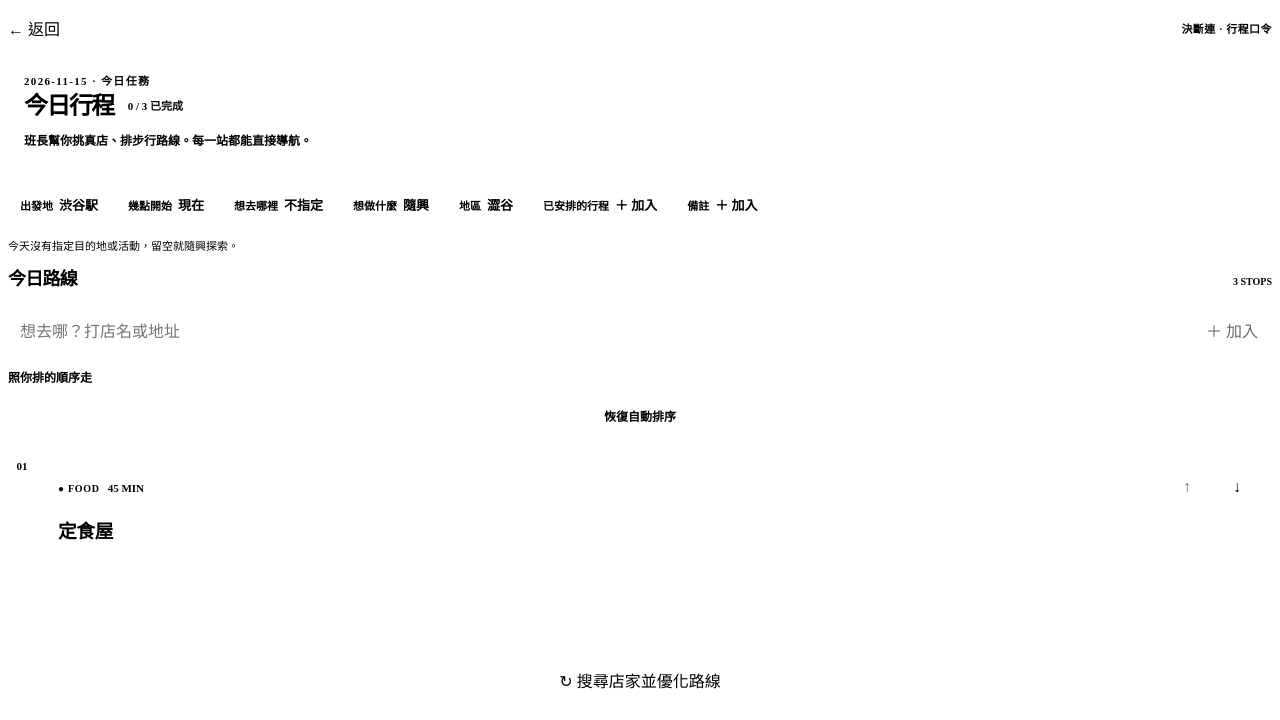
Test: 手動排序（畫面） › 恢復自動排序：拿掉旗標，請求只帶 reorderOnly（不換店），順序列消失
Click the button with test id "daily-order-auto".
click(640, 418)  # box [8,396,1272,440]
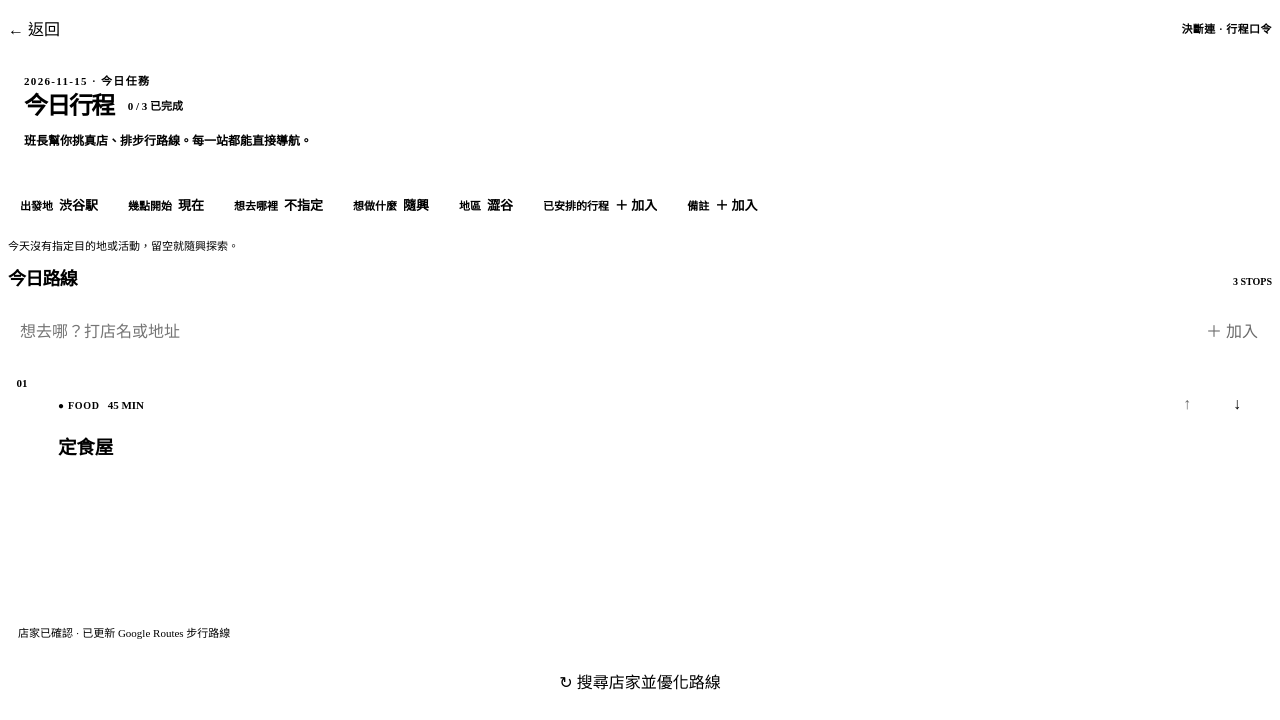
Check: the button with test id "daily-generate" is enabled, box [8,656,1272,710]
Check: the element with test id "daily-order-bar" is gone
